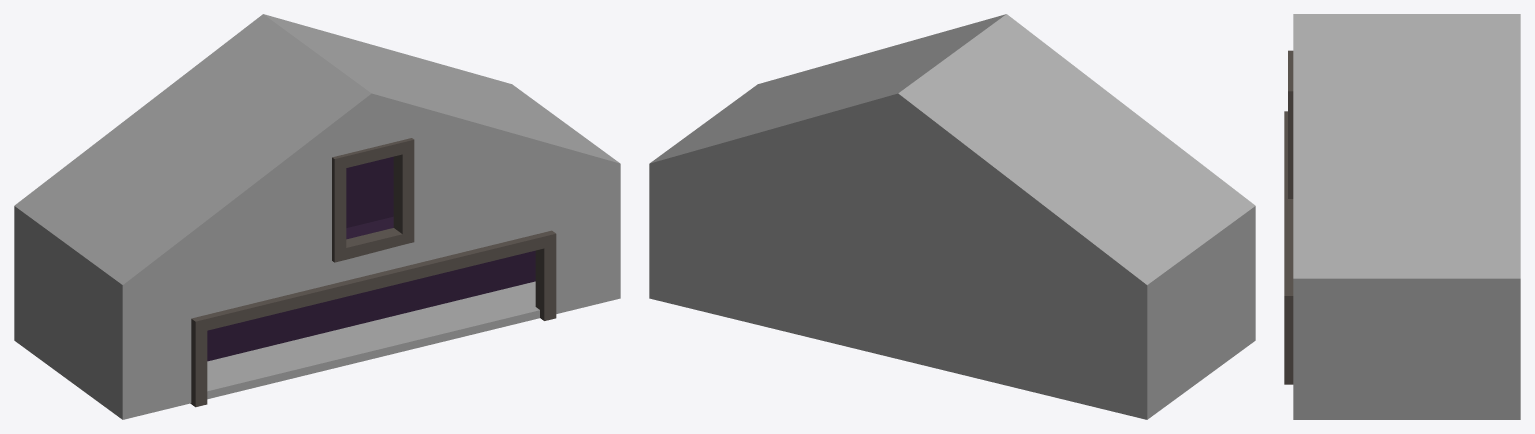
Rendered from Boss_koya.fbx.
The picture shows the model from 3 angles, left to right: view 1: azimuth 30°, elevation 25°; view 2: azimuth 150°, elevation 25°; view 3: azimuth 270°, elevation 25°; orthographic projection. The views are drawn at different scales.
Parts seen in each view (by area): view 1: pCube1, pCube2, pCube3; view 2: pCube1; view 3: pCube1, pCube2, pCube3.
Part boxes in pixels (x1=…): pCube1: x1=14, y1=14, x2=620, y2=419; pCube2: x1=190, y1=230, x2=556, y2=407; pCube3: x1=332, y1=138, x2=414, y2=262; pCube1: x1=649, y1=14, x2=1255, y2=419; pCube1: x1=1293, y1=14, x2=1520, y2=419; pCube2: x1=1284, y1=111, x2=1293, y2=384; pCube3: x1=1288, y1=50, x2=1293, y2=198.
Bounding box in the file's own units: 12.97 × 6.64 × 5.09.
